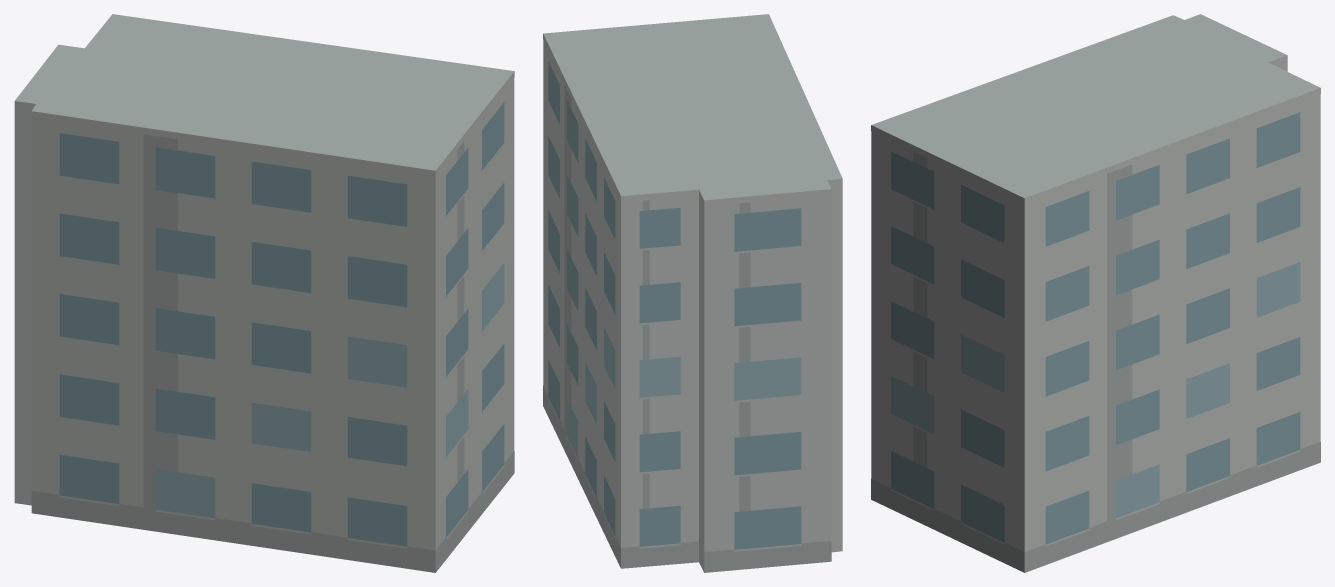
The model's file is survey-upis-32885907.glb.
The picture shows the model from 3 angles, left to right: view 1: azimuth 30°, elevation 25°; view 2: azimuth 150°, elevation 25°; view 3: azimuth 270°, elevation 25°; orthographic projection. The views are drawn at different scales.
Parts seen in each view (by area): view 1: survey-upis-32885907.tmp; view 2: survey-upis-32885907.tmp; view 3: survey-upis-32885907.tmp.
Part boxes in pixels (bbox=[...]): survey-upis-32885907.tmp: bbox=[14, 14, 514, 572]; survey-upis-32885907.tmp: bbox=[543, 14, 842, 572]; survey-upis-32885907.tmp: bbox=[871, 14, 1320, 572].
Bounding box in the file's own units: 15.52 × 14.7 × 16.
